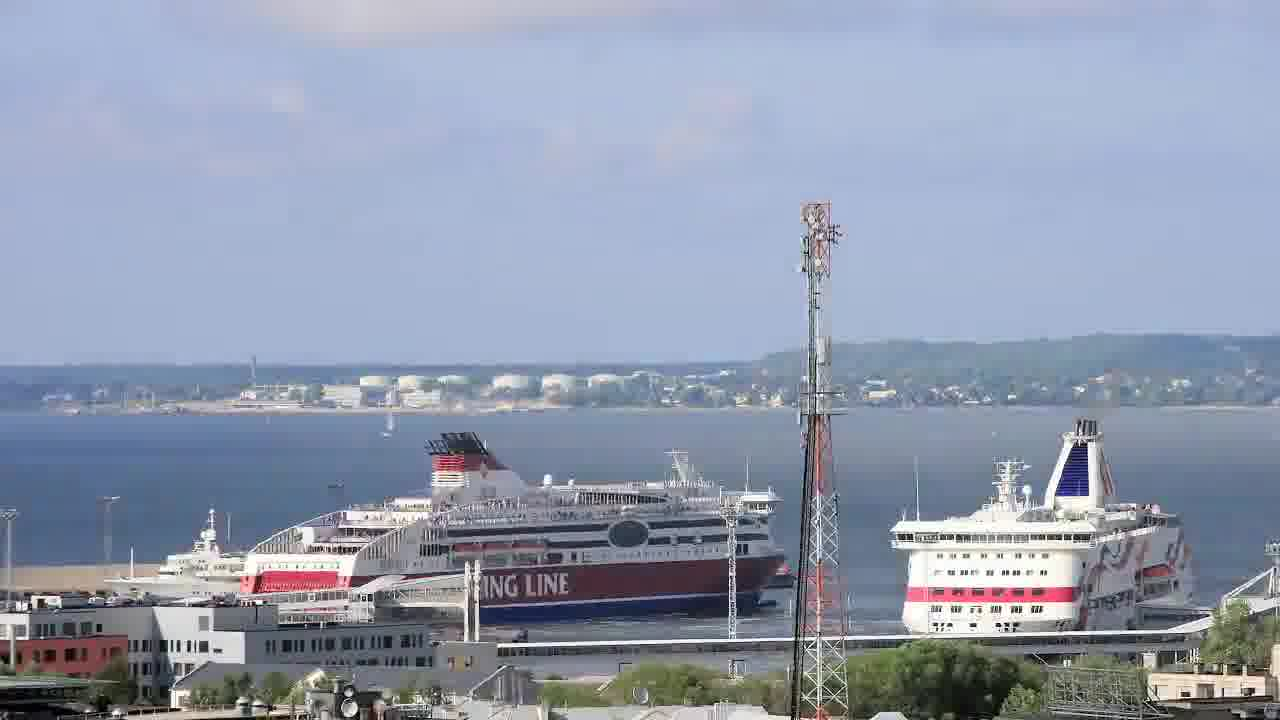type-2: (357, 400, 411, 451)
type-3: (242, 419, 795, 625), (868, 415, 1225, 638), (89, 517, 228, 613)
